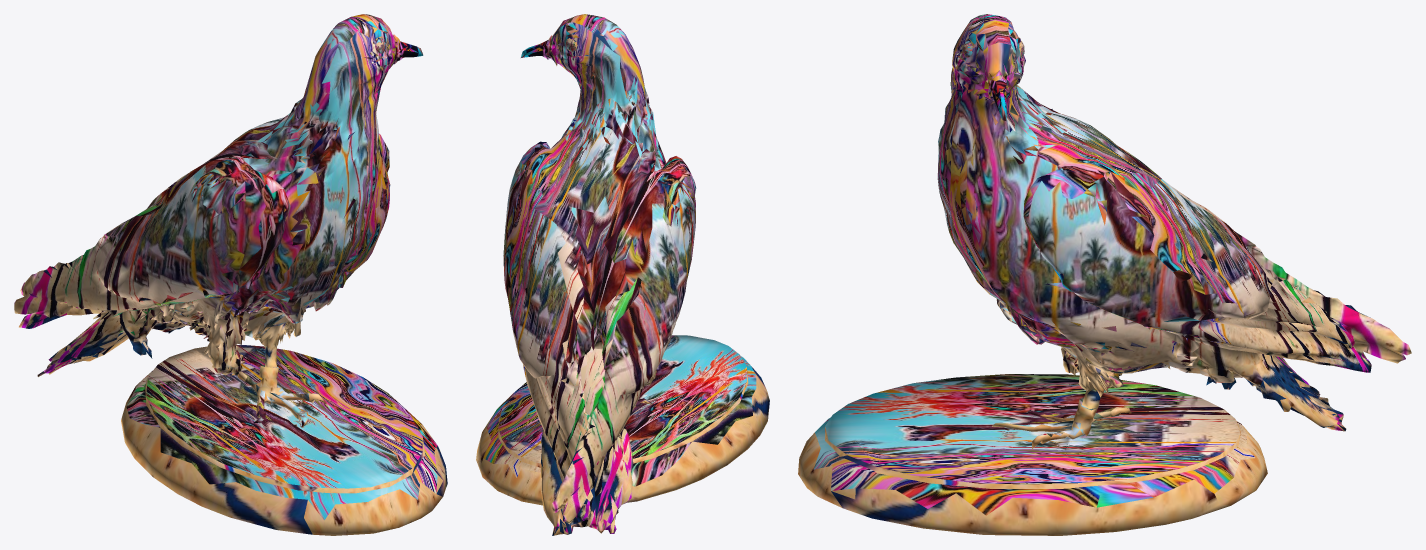
The model's file is si_nmah_cher-ami.glb.
3 views of the same model, side by side, from view 1: azimuth 30°, elevation 25°; view 2: azimuth 150°, elevation 25°; view 3: azimuth 270°, elevation 25° (orthographic). The views are drawn at different scales.
Visible parts, largest first — view 1: A; view 2: A; view 3: A.
Part boxes in pixels (<box>): A: <box>14,14,447,535</box>; A: <box>476,14,769,535</box>; A: <box>798,14,1411,535</box>.
Bounding box in the file's own units: 1.04 × 1.73 × 2.
Materials: 3 (3 with a texture image).
